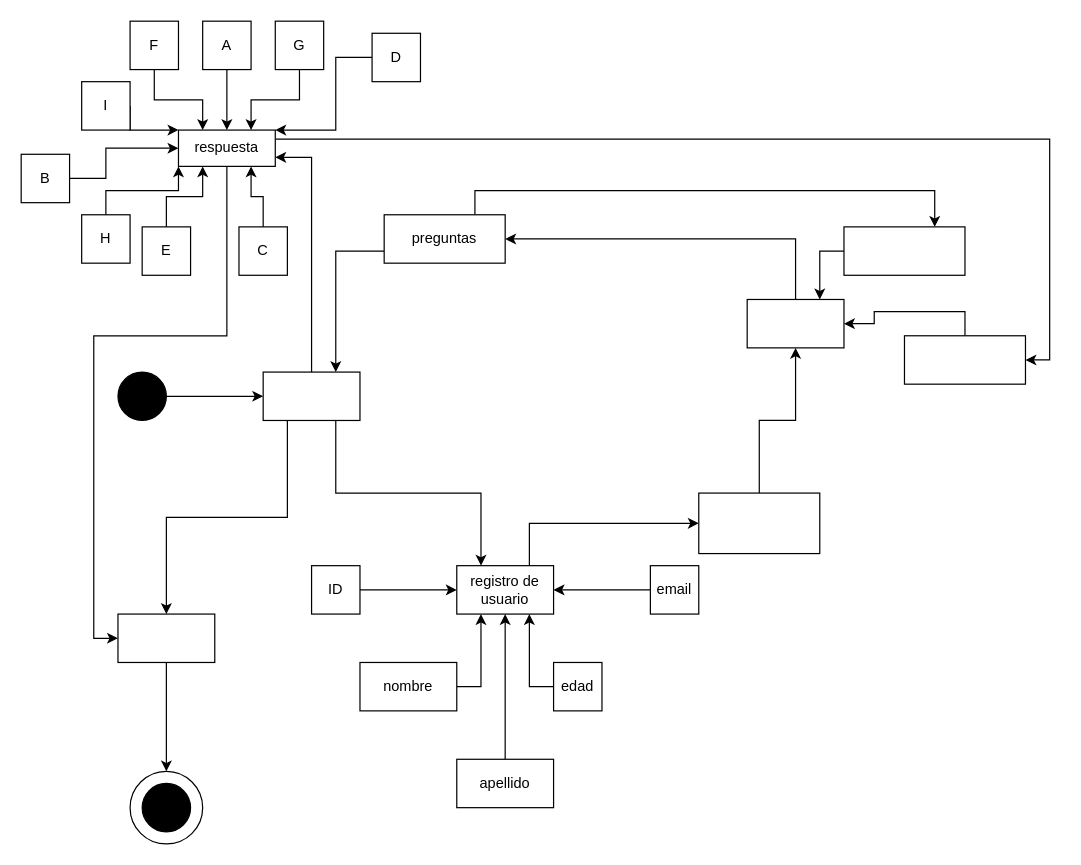
This 1081x865 diagram has some shape labels left out. Here are the shapes that lost their labels. From the top down, the box of each, then its label:
(843, 226, 965, 275): Base de datos preguntas
(746, 298, 844, 348): entidad
(903, 335, 1025, 384): Base de datos respuestas
(262, 371, 360, 420): persona
(698, 492, 820, 554): Base de datos registro de usuario
(117, 613, 215, 662): resultado
